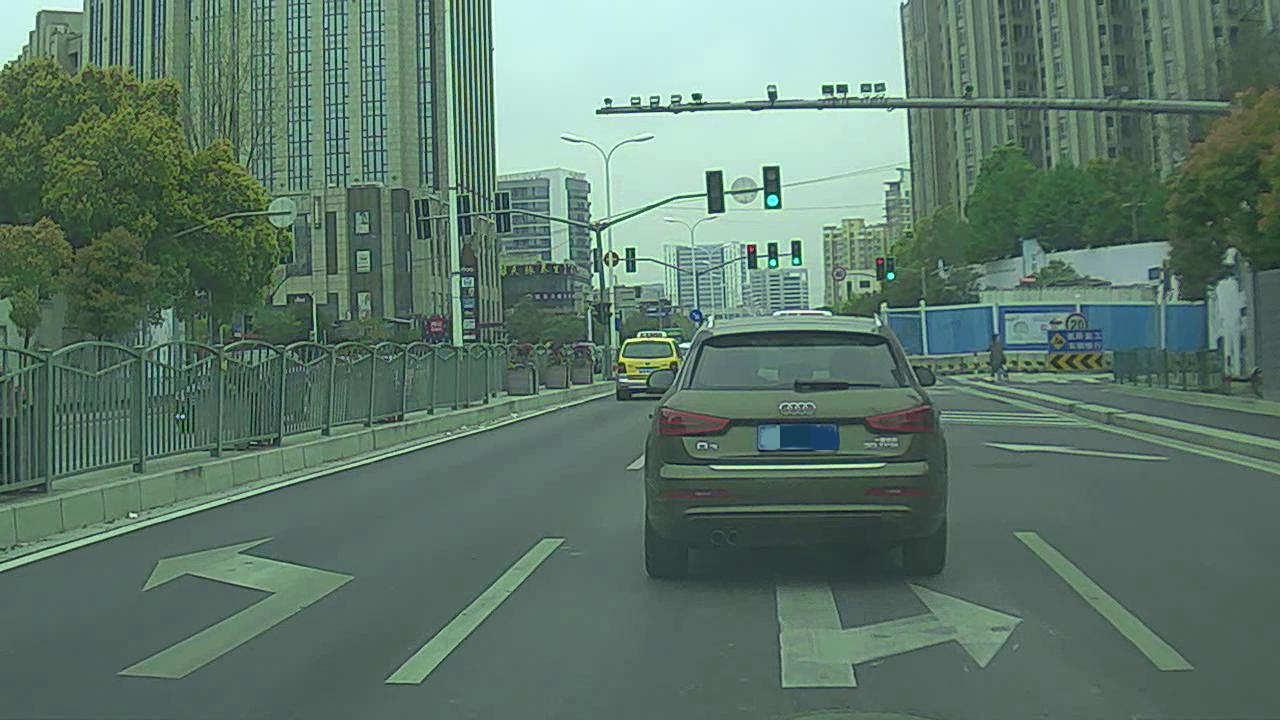traffic_light: (764, 166, 785, 212), (707, 172, 725, 215), (789, 240, 805, 266), (874, 255, 886, 283), (745, 244, 757, 270), (767, 243, 780, 266), (888, 258, 896, 282)
